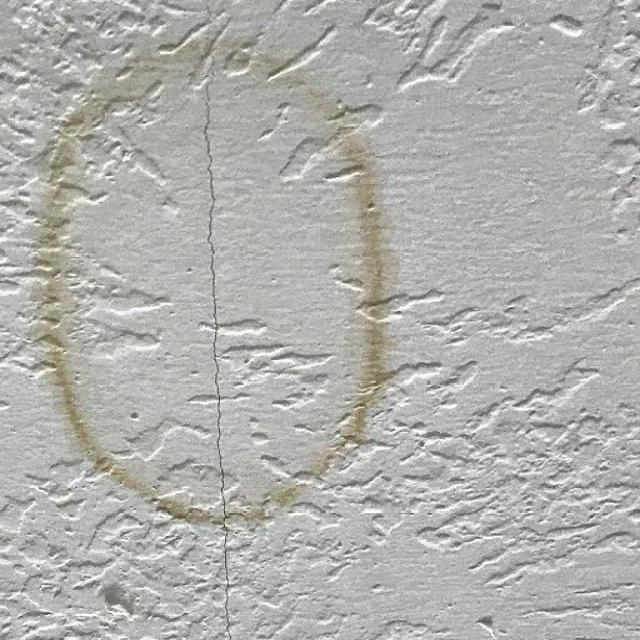leak: (48, 33, 388, 525), (202, 0, 242, 640)
